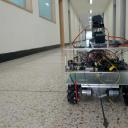cart: (63, 47, 127, 105)
